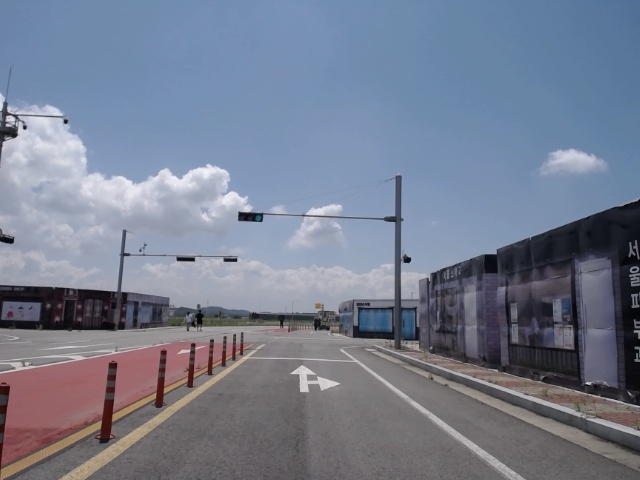green_3: (238, 213, 263, 221)
